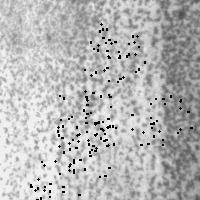pitted_surface: (1, 1, 200, 198), (84, 23, 144, 81), (57, 90, 113, 150), (61, 121, 115, 176), (131, 95, 190, 144), (24, 159, 82, 200)
